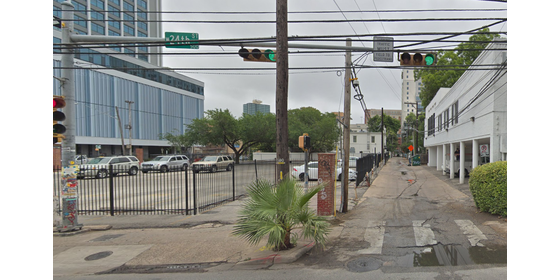street name sign: (161, 28, 207, 54)
turning vehicle yield to ped sign: (372, 31, 397, 65)
